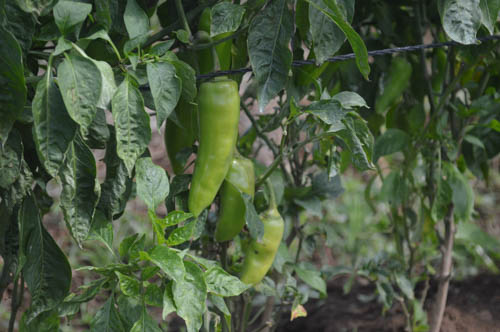ChiliPepper: (190, 83, 235, 220), (242, 219, 284, 284), (219, 159, 250, 243)
